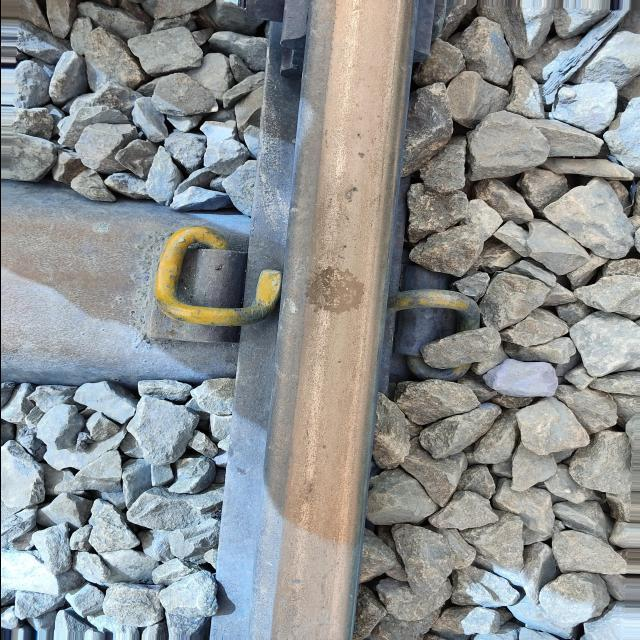head_checks_low: (302, 266, 366, 316), (352, 131, 366, 160), (342, 185, 358, 205), (338, 242, 348, 250), (291, 579, 299, 584)
